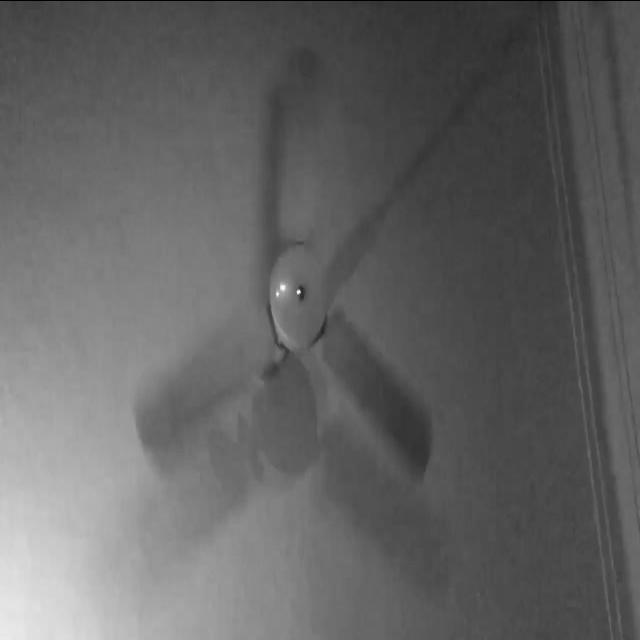fan: (128, 26, 443, 558)
light: (268, 243, 327, 353)
